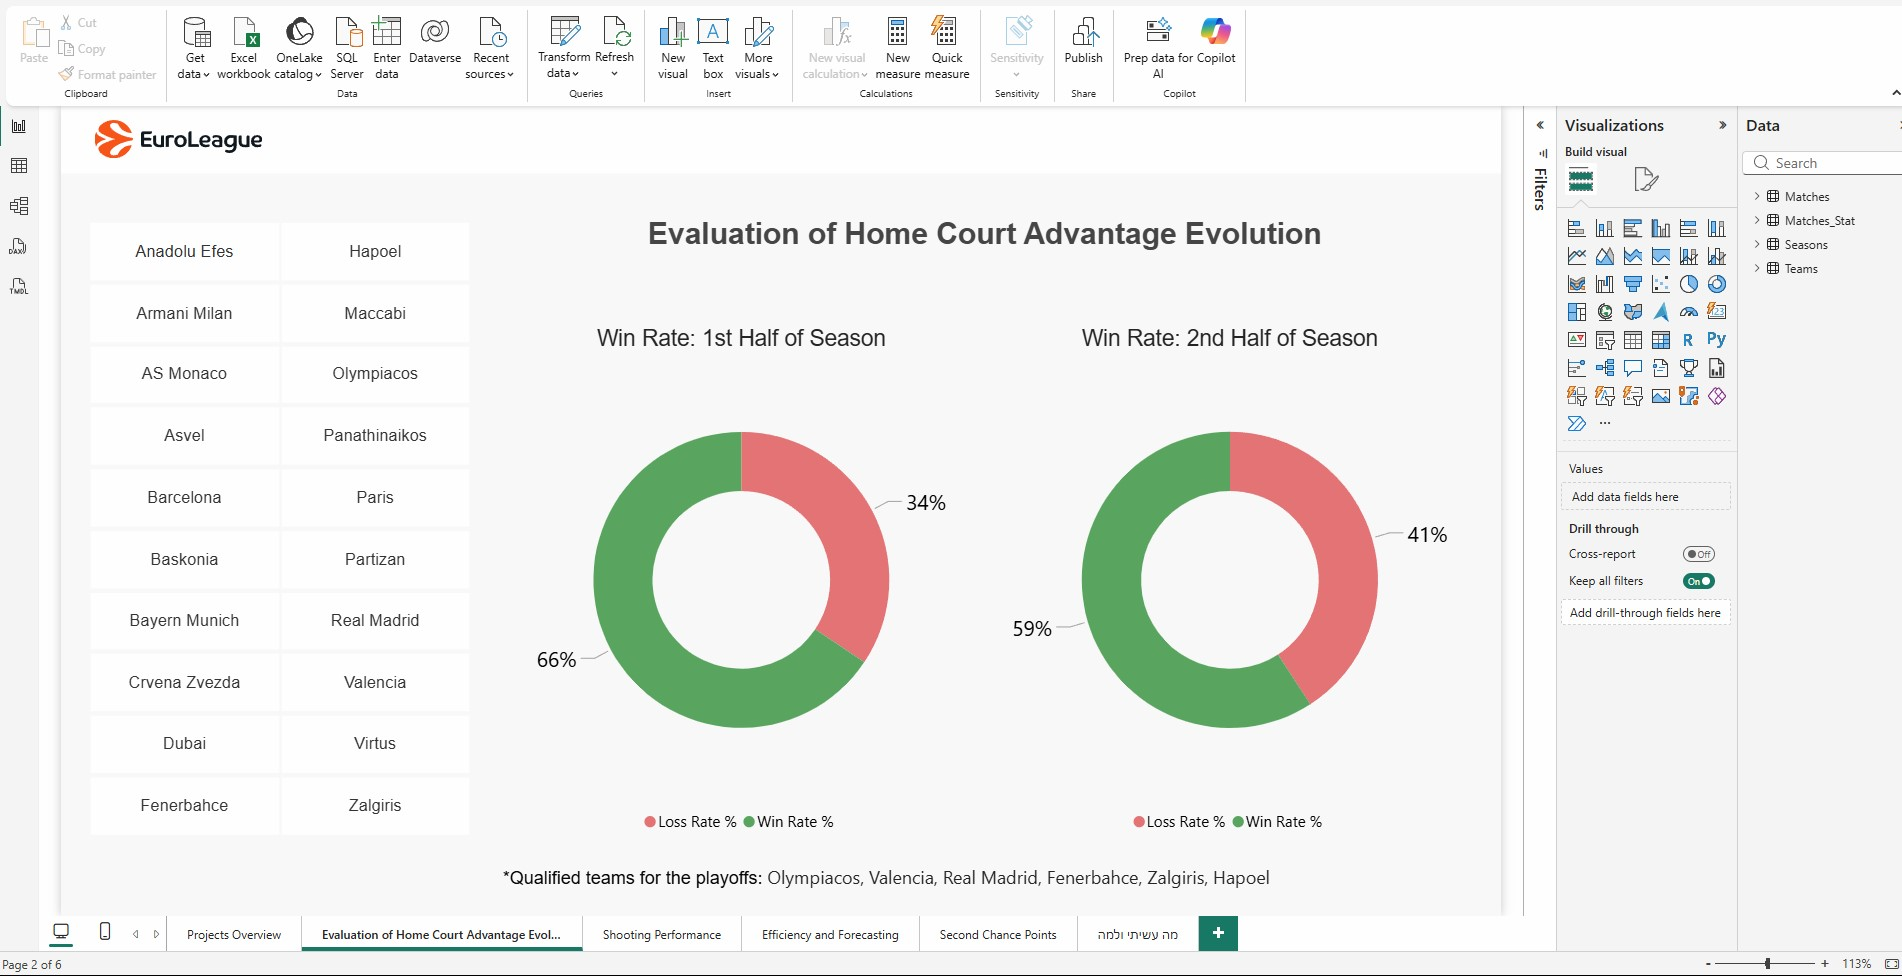

This screenshot's page, from the dashboard's own definition file:
{"tool":"powerbi","page":{"name":"Evaluation of Home Court Advantage Evolution","canvas":[1280,720],"ordinal":1},"visuals":[{"type":"shape","box":[0,0,1280,60],"z":0},{"type":"donutChart","title":"Win Rate: 2nd Half of Season","fields":{"Y":["Matches.Loss Rate %","Matches.Win Rate %"]},"box":[821.6,184.9,435.3,470],"z":1000},{"type":"donutChart","title":"Win Rate: 1st Half of Season","fields":{"Y":["Matches.Loss Rate %","Matches.Win Rate %"]},"box":[387.2,184.9,434.4,470],"z":2000},{"type":"slicer","fields":{"Values":["Matches.HomeTeamName"]},"box":[0,97.3,387.2,557.7],"z":3000},{"type":"image","box":[24.9,12.5,158.5,34],"z":4000},{"type":"textbox","box":[386.8,97.1,869.1,58.1],"z":5000},{"type":"textbox","box":[387.2,669.4,868.7,51],"z":6000}]}

Visuals, with their boxes on the page's 1280x720 design canvas (x1, y1, x2, y2). These are canvas units, not pixel positions in the 1902x976 screenshot, which may show the page scaled, cropped or inside an application window:
shape: pyautogui.locateOnScreen(0, 0, 1280, 60)
"Win Rate: 2nd Half of Season" donutChart: pyautogui.locateOnScreen(822, 185, 1257, 655)
"Win Rate: 1st Half of Season" donutChart: pyautogui.locateOnScreen(387, 185, 822, 655)
slicer - Matches.HomeTeamName: pyautogui.locateOnScreen(0, 97, 387, 655)
image: pyautogui.locateOnScreen(25, 12, 183, 46)
textbox: pyautogui.locateOnScreen(387, 97, 1256, 155)
textbox: pyautogui.locateOnScreen(387, 669, 1256, 720)
